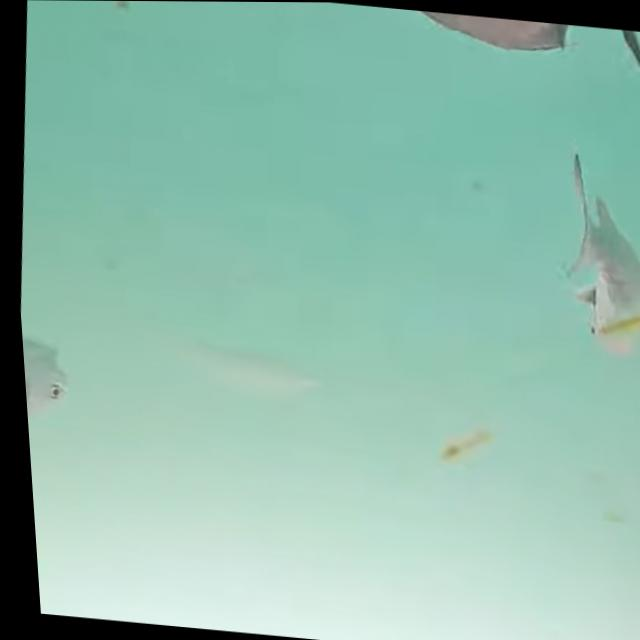fish: (534, 146, 640, 368), (17, 320, 77, 445)
